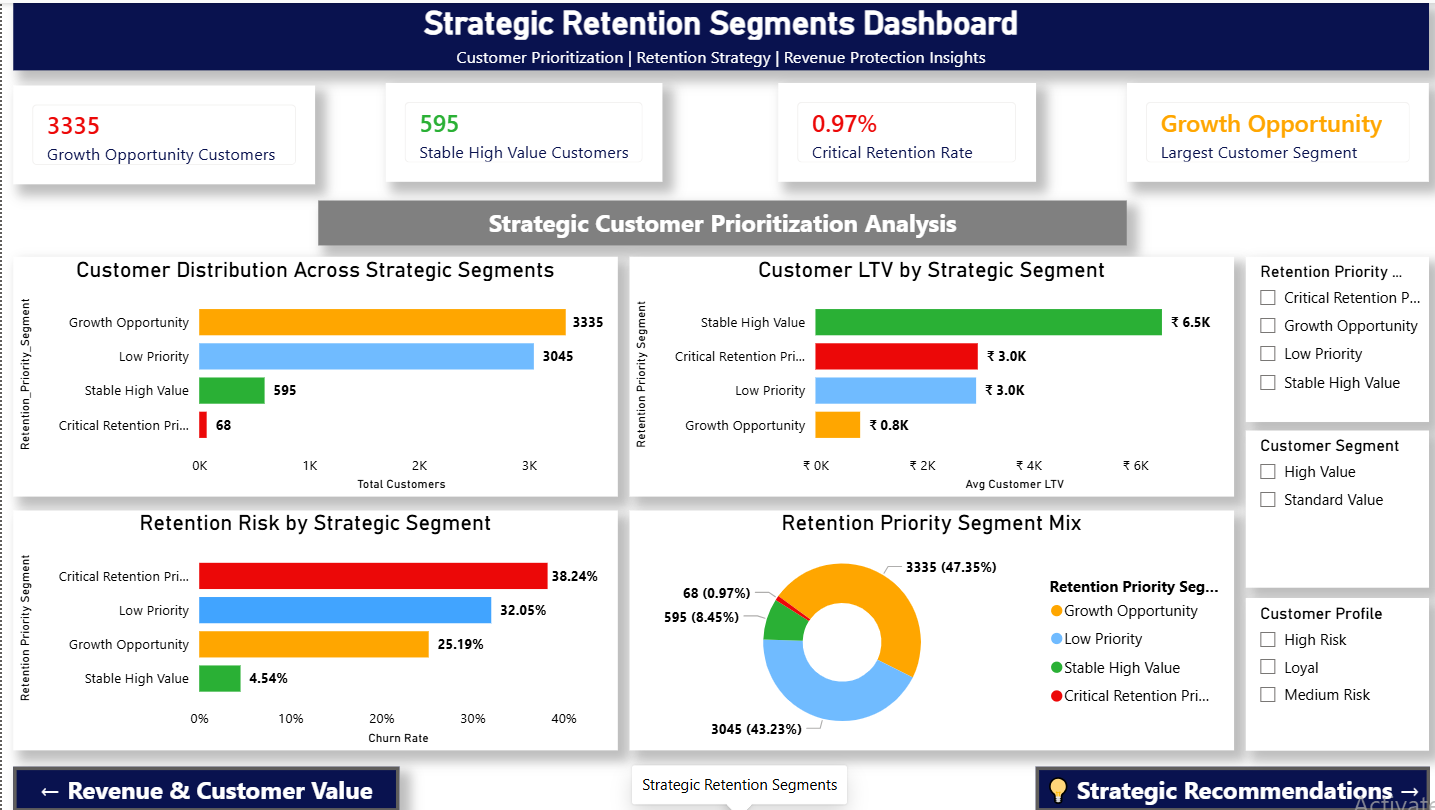

The dashboard page shown, as its layout file describes it:
{"tool":"powerbi","page":{"name":"Strategic Retention Segments","canvas":[1280,720],"ordinal":3},"visuals":[{"type":"textbox","title":"Strategic Retention Segments Dashboard","box":[9.7,0,1260.7,60.3],"z":0},{"type":"cardVisual","fields":{"Data":["Measure.Growth Opportunity Customers"]},"box":[9.7,73.6,269,88.1],"z":1000},{"type":"cardVisual","fields":{"Data":["Measure.Stable High Value Customers"]},"box":[341.4,71.2,246.1,88.1],"z":2000},{"type":"cardVisual","fields":{"Data":["Measure.Largest Customer Segment"]},"box":[1001.3,71.2,269,88.1],"z":3000},{"type":"cardVisual","fields":{"Data":["Measure.Critical Retention Rate"]},"box":[691.3,71.2,229.2,88.1],"z":4000},{"type":"textbox","title":"Retention Risk & Customer Segmentation Analysis","box":[281.1,176.1,720.2,39.8],"z":5000},{"type":"clusteredBarChart","title":"Customer Distribution Across Strategic Segments","fields":{"Category":["final_telco_customer_analytics.Retention_Priority_Segment"],"Y":["Measure.Total Customers"]},"box":[9.7,225.6,538.1,213.5],"z":6000},{"type":"clusteredBarChart","title":"Customer LTV by Strategic Segment","fields":{"Category":["final_telco_customer_analytics.Retention_Priority_Segment"],"Y":["Measure.Avg Customer LTV"]},"box":[558.6,225.6,538.1,213.5],"z":7000},{"type":"clusteredBarChart","title":"Retention Risk by Strategic Segment","fields":{"Y":["Measure.Churn Rate"],"Category":["final_telco_customer_analytics.Retention_Priority_Segment"]},"box":[9.7,452.4,538.1,213.5],"z":8000},{"type":"donutChart","title":"Retention Priority Segment Mix","fields":{"Category":["final_telco_customer_analytics.Retention_Priority_Segment"],"Y":["Measure.Total Customers"]},"box":[558.6,452.4,538.1,213.5],"z":9000},{"type":"actionButton","box":[920.5,680.4,351.1,39.8],"z":10000},{"type":"actionButton","box":[9.7,680.2,343.8,39.8],"z":11000},{"type":"slicer","fields":{"Values":["final_telco_customer_analytics.Retention_Priority_Segment"]},"box":[1107.5,225.6,162.9,147.2],"z":12000},{"type":"slicer","fields":{"Values":["final_telco_customer_analytics.Customer_Value_Segment"]},"box":[1107.5,381.2,162.9,139.9],"z":13000},{"type":"slicer","fields":{"Values":["final_telco_customer_analytics.Customer_Risk_Profile"]},"box":[1107.5,529.6,162.9,136.3],"z":14000}]}

Visuals, with their boxes in screenshot pixels (x1, y1, x2, y2), scaled from the page's 1280x720 canvas onto the 1435x810 screenshot:
"Strategic Retention Segments Dashboard" textbox: {"left": 11, "top": 0, "right": 1424, "bottom": 68}
cardVisual - Measure.Growth Opportunity Customers: {"left": 11, "top": 83, "right": 312, "bottom": 182}
cardVisual - Measure.Stable High Value Customers: {"left": 383, "top": 80, "right": 659, "bottom": 179}
cardVisual - Measure.Largest Customer Segment: {"left": 1123, "top": 80, "right": 1424, "bottom": 179}
cardVisual - Measure.Critical Retention Rate: {"left": 775, "top": 80, "right": 1032, "bottom": 179}
"Retention Risk & Customer Segmentation Analysis" textbox: {"left": 315, "top": 198, "right": 1123, "bottom": 243}
"Customer Distribution Across Strategic Segments" clusteredBarChart: {"left": 11, "top": 254, "right": 614, "bottom": 494}
"Customer LTV by Strategic Segment" clusteredBarChart: {"left": 626, "top": 254, "right": 1230, "bottom": 494}
"Retention Risk by Strategic Segment" clusteredBarChart: {"left": 11, "top": 509, "right": 614, "bottom": 749}
"Retention Priority Segment Mix" donutChart: {"left": 626, "top": 509, "right": 1230, "bottom": 749}
actionButton: {"left": 1032, "top": 765, "right": 1426, "bottom": 809}
actionButton: {"left": 11, "top": 765, "right": 396, "bottom": 809}
slicer - final_telco_customer_analytics.Retention_Priority_Segment: {"left": 1242, "top": 254, "right": 1424, "bottom": 419}
slicer - final_telco_customer_analytics.Customer_Value_Segment: {"left": 1242, "top": 429, "right": 1424, "bottom": 586}
slicer - final_telco_customer_analytics.Customer_Risk_Profile: {"left": 1242, "top": 596, "right": 1424, "bottom": 749}
